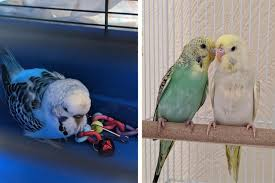budgie: (148, 33, 216, 179), (1, 68, 92, 148), (211, 32, 260, 180)
